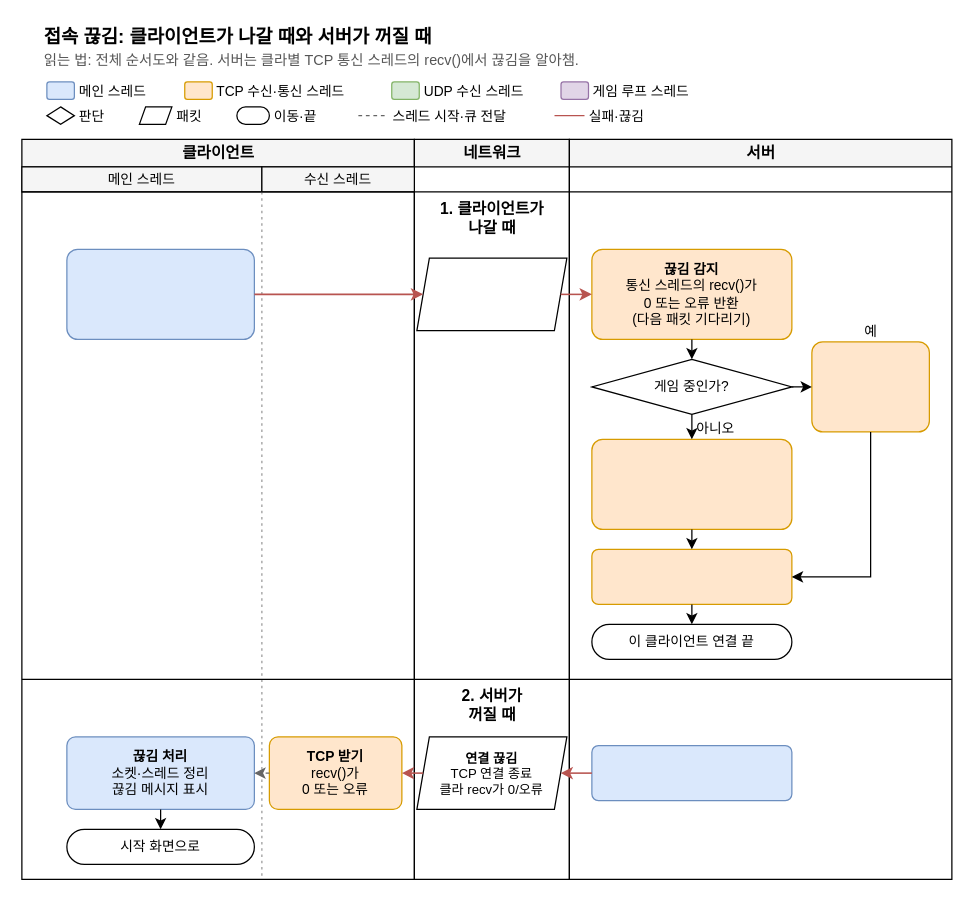
Some shapes in this 975 by 903 pixel diagram are drawn without their labels. The shapes that lost their labels are listed below. From the top down, each one's centre as x and y in pixels, then its label:
At (x=160, y=293): "창 닫기 언제든, 어느 화면에서나 closesocket() WSACleanup()".
At (x=491, y=294): "연결 끊김 TCP 연결 종료 서버 recv가 0 반환".
At (x=870, y=386): "끊김 표시 다음 틱에 유령 자리는 로비 복귀 때 정리".
At (x=691, y=483): "자리 비우기 시작 조건 다시 확인 남은 전원에 로비 상태 (송신 임계 영역)".
At (x=691, y=576): "소켓 닫기 통신 스레드 종료".
At (x=691, y=772): "서버 종료 오류·강제 종료 포함".
